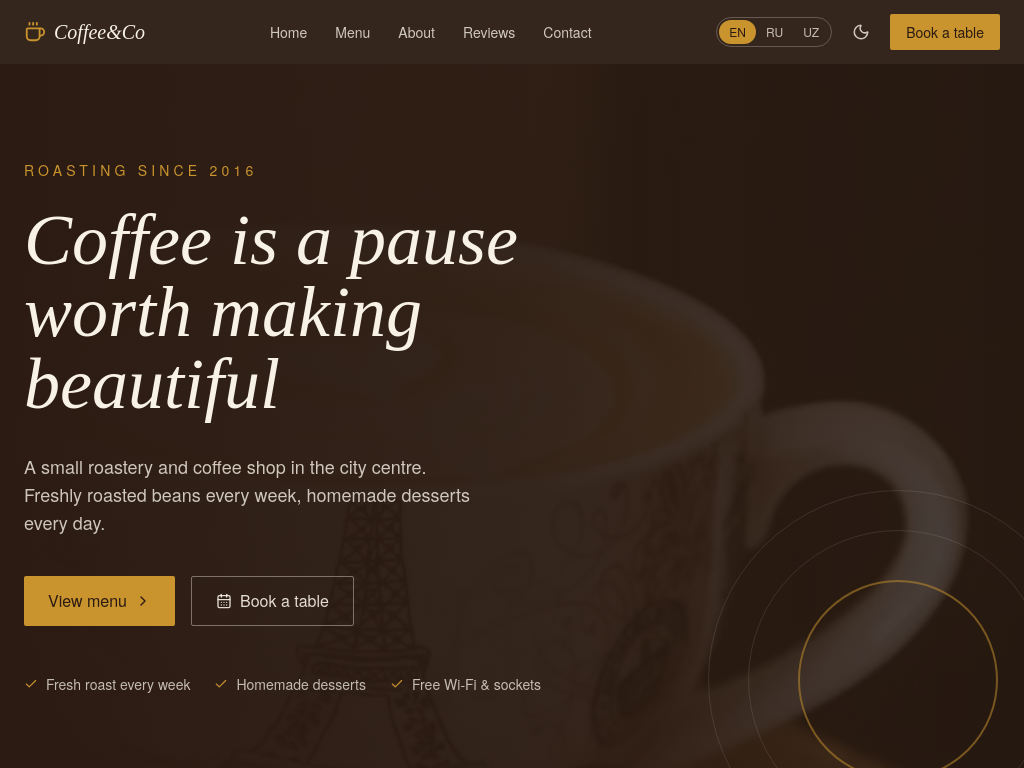
Test: Booking form: slot capacity › marks fully booked times and does not let the visitor pick them
Step 1. Click the 1st button "Book a table" → x=945, y=32, box [890,14,1000,50]
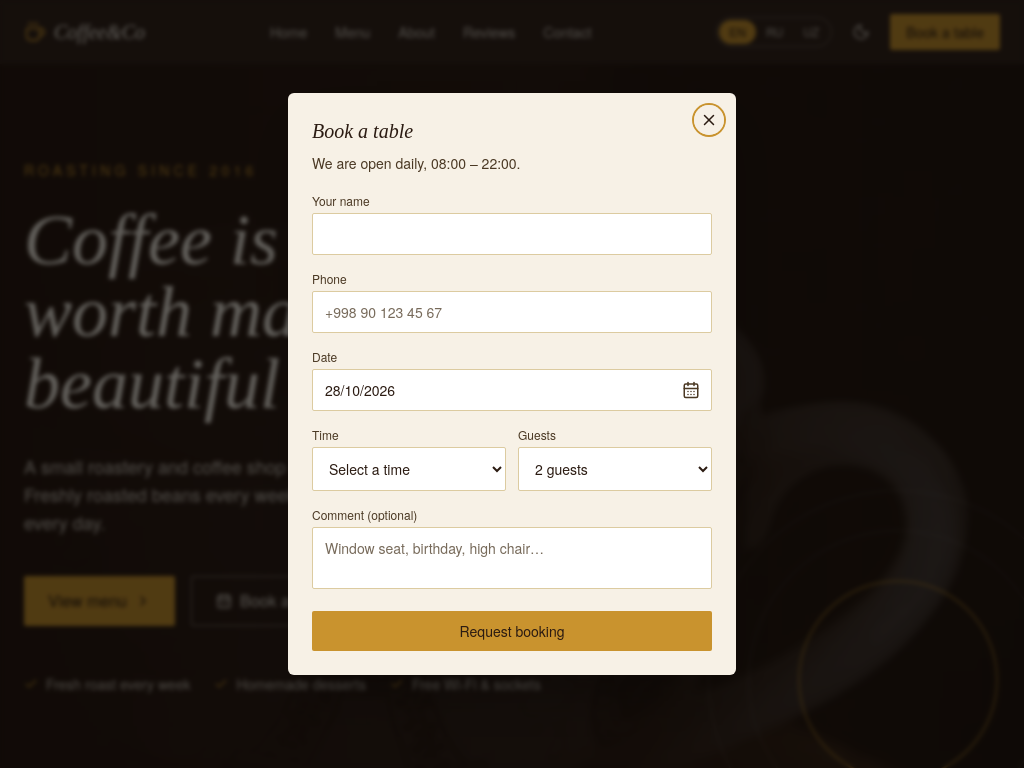
Expected: the dropdown labelled "Time" is enabled, [312,447,506,491]
